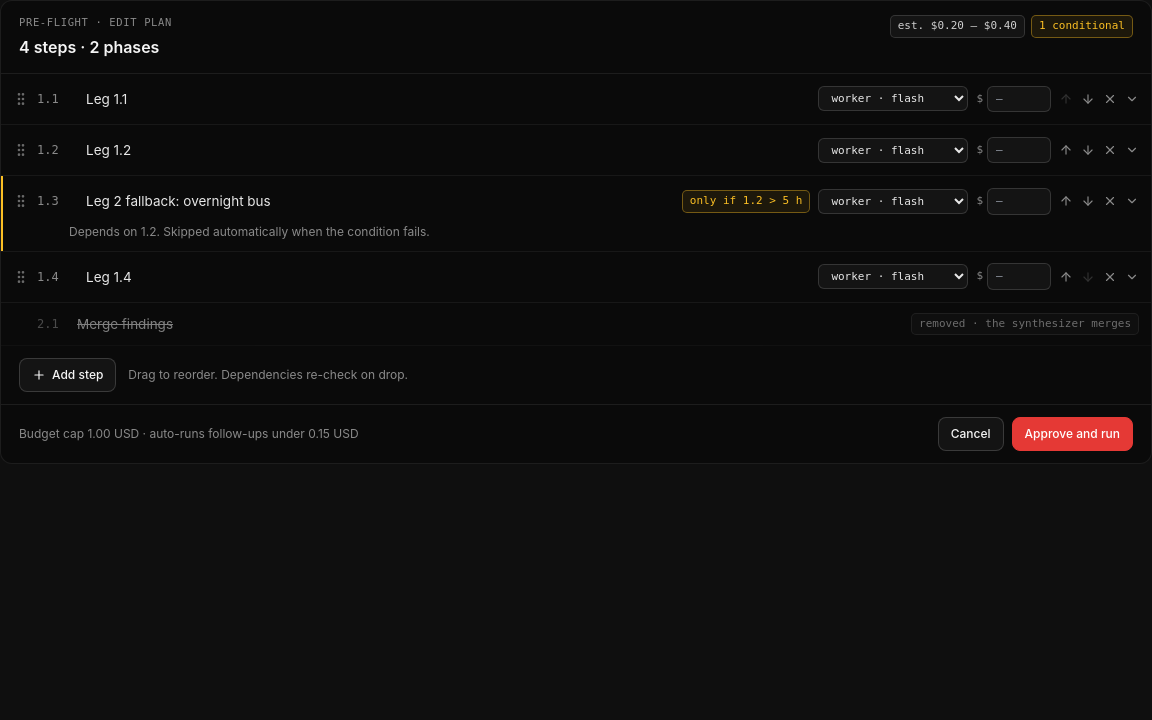
Scenario: PlanEditor › a cycle, a missing dependency or an over-budget plan blocks approval with the reason
Step 1. Click the button named "Details of 1.2" → (1132, 150), box top-left (1125, 143), bottom-right (1139, 157)
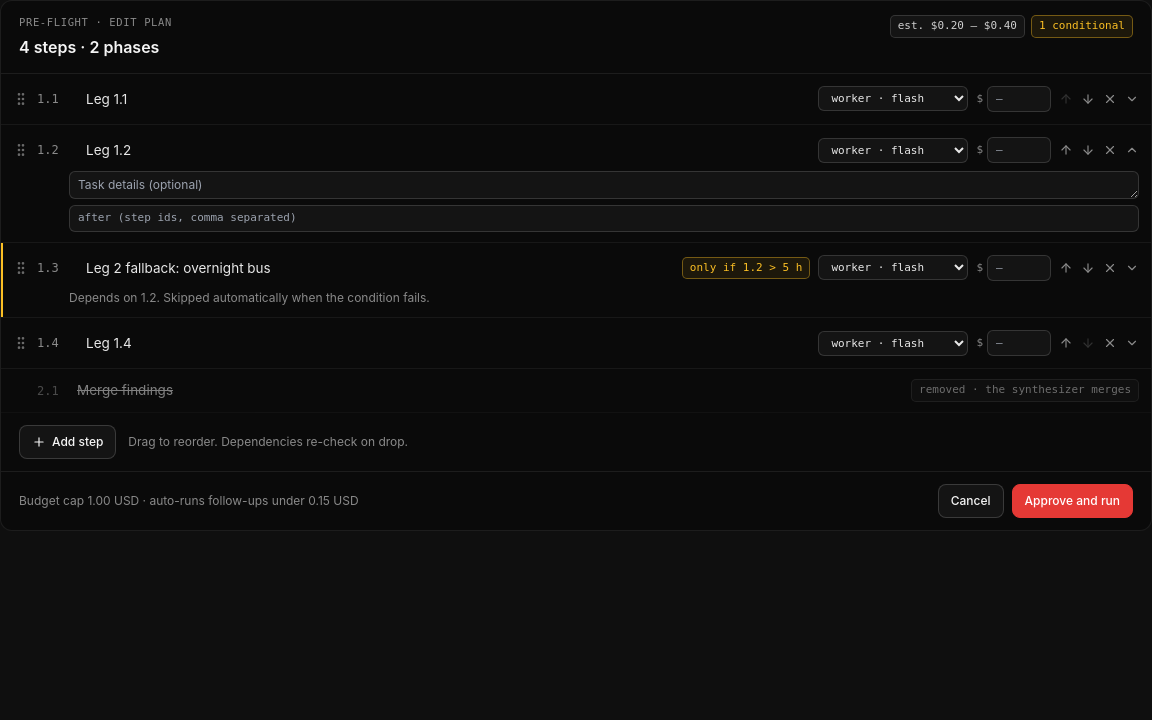
Step 2. Type "1.3" into the field named "Dependencies of 1.2" → (604, 219), box top-left (69, 205), bottom-right (1139, 232)
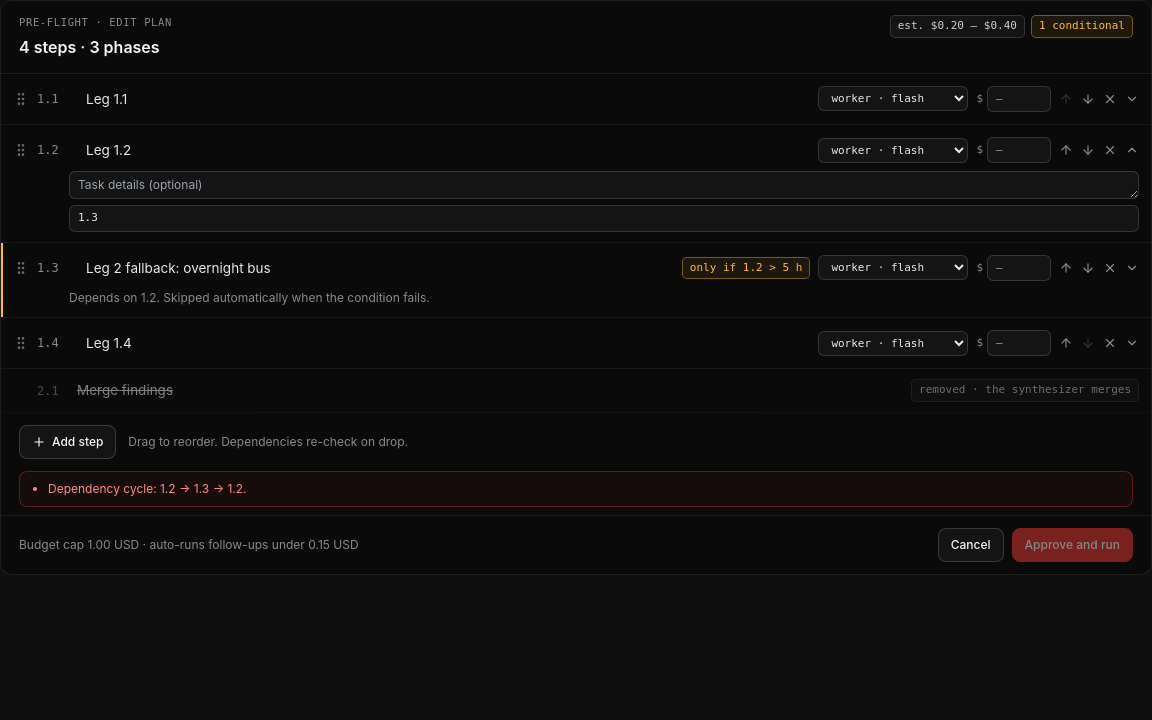
Check: the message with test id "plan-editor-errors" reads "Dependency cycle: 1.2 → 1.3 → 1.2.", box top-left (48, 481), bottom-right (247, 496)
Check: the button "Approve and run" is disabled, box top-left (1012, 528), bottom-right (1133, 562)
Step 3. Replace the text in the field named "Dependencies of 1.2" with "9.9" → (604, 219), box top-left (69, 205), bottom-right (1139, 232)
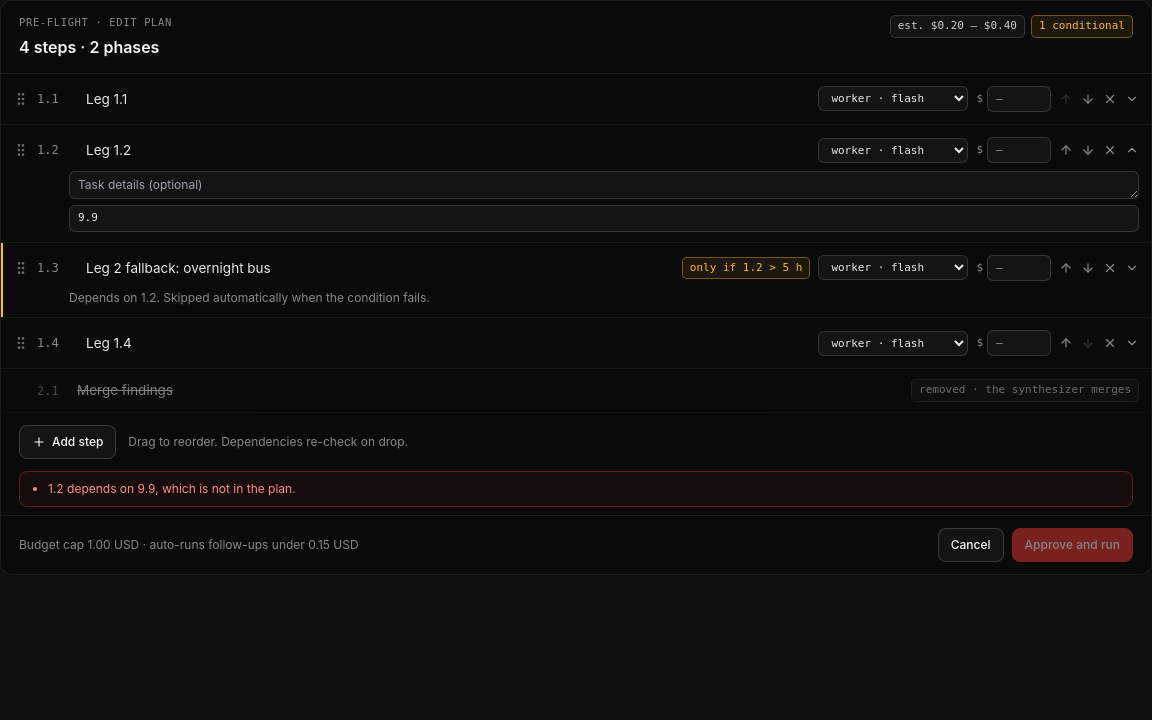
Check: the message with test id "plan-editor-errors" reads "1.2 depends on 9.9, which is not in the plan.", box top-left (48, 481), bottom-right (296, 496)
Step 4. Clear the field named "Dependencies of 1.2" → (604, 219), box top-left (69, 205), bottom-right (1139, 232)
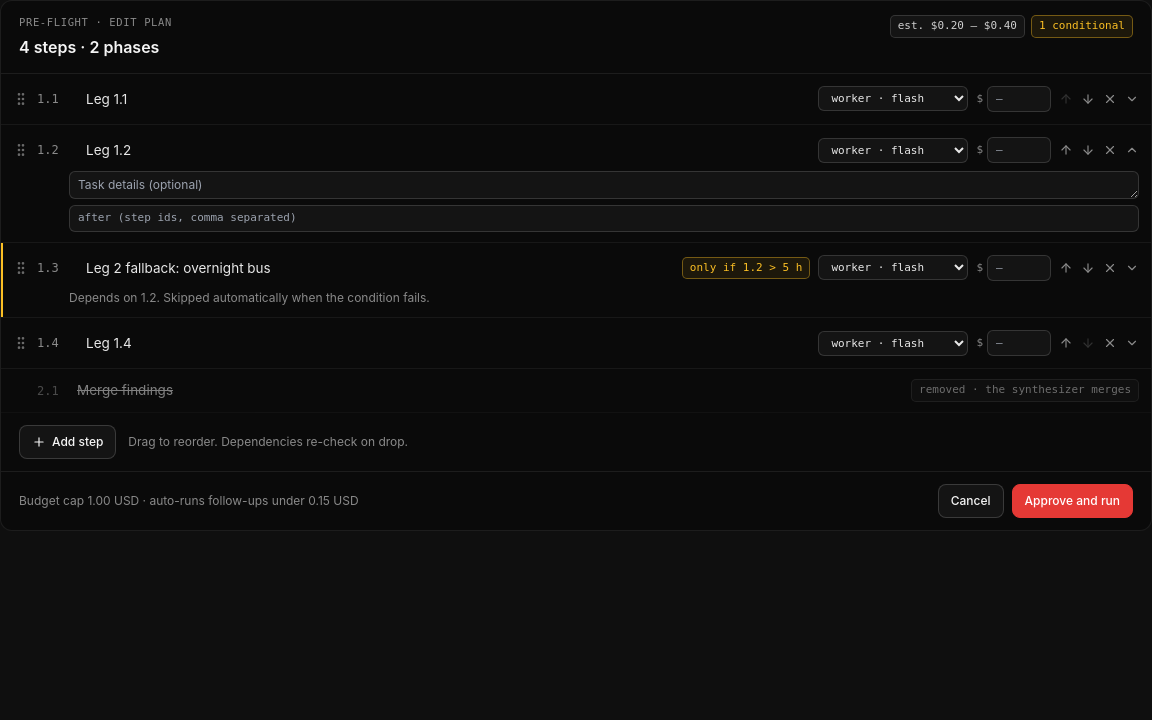
Step 5. Type "0.4" into the number field labelled "$" in the row of "1.1" → (1019, 99), box top-left (987, 86), bottom-right (1051, 112)
Step 6. Type "0.4" into the number field named "Budget of 1.2" → (1019, 150), box top-left (987, 137), bottom-right (1051, 163)
Step 7. Type "0.4" into the number field named "Budget of 1.3" → (1019, 268), box top-left (987, 255), bottom-right (1051, 281)
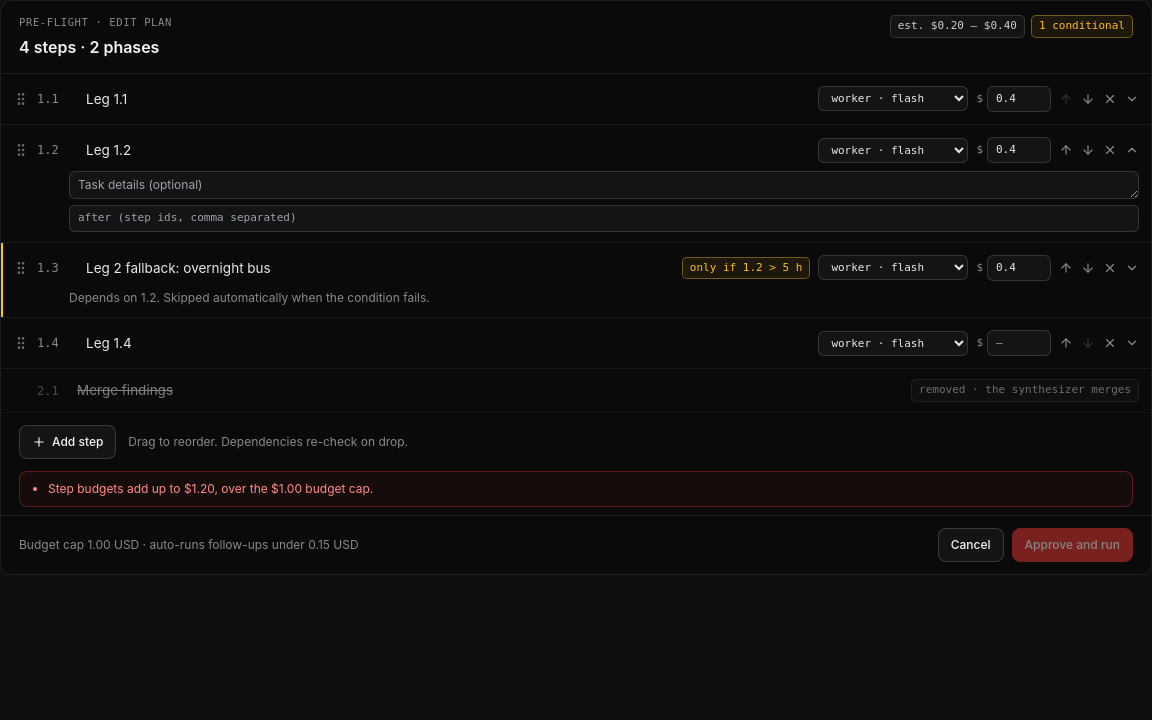
Check: the message with test id "plan-editor-errors" reads "Step budgets add up to $1.20, over the $1.00 budget cap.", box top-left (48, 481), bottom-right (373, 496)
Check: the button "Approve and run" is disabled, box top-left (1012, 528), bottom-right (1133, 562)
Step 8. Replace the text in the number field named "Budget of 1.3" with "0.1" → (1019, 268), box top-left (987, 255), bottom-right (1051, 281)
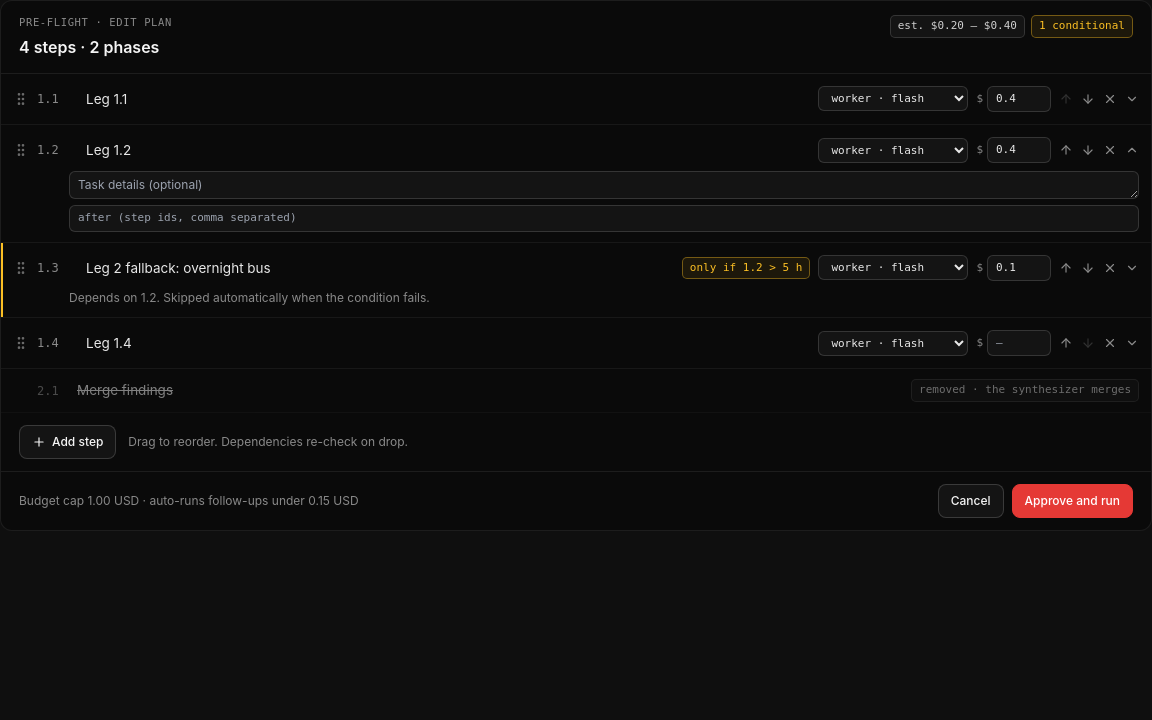
Check: the message with test id "plan-editor-errors" is gone
Check: the button "Approve and run" is enabled, box top-left (1012, 484), bottom-right (1133, 518)
